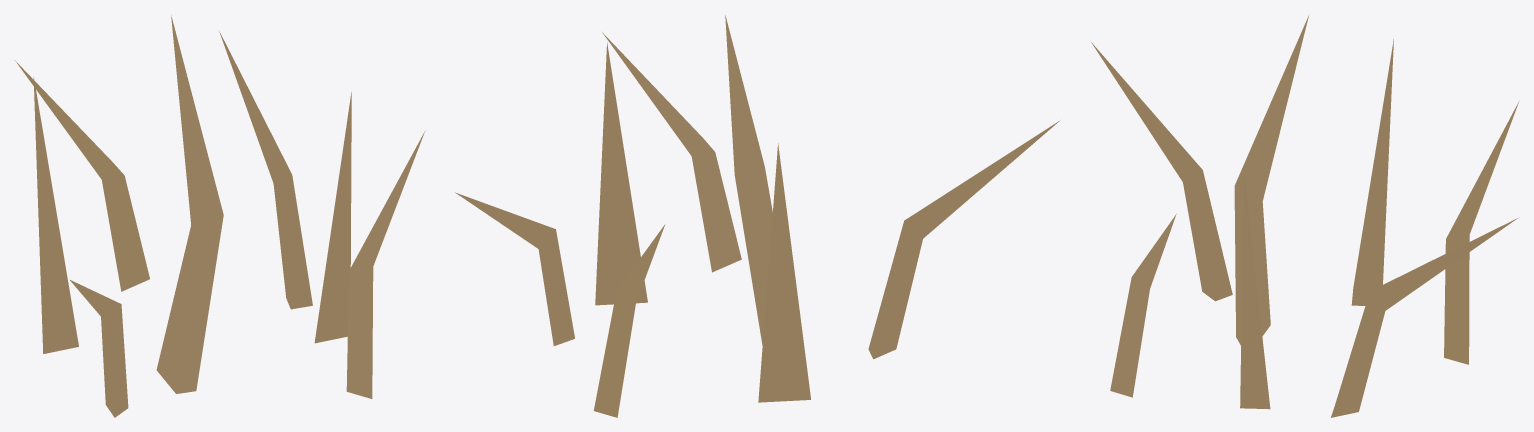
The model's file is Grass3D_b_05.fbx.
The picture shows the model from 3 angles, left to right: view 1: azimuth 30°, elevation 25°; view 2: azimuth 150°, elevation 25°; view 3: azimuth 270°, elevation 25°; orthographic projection. The views are drawn at different scales.
Parts seen in each view (by area): view 1: Grass3D_b_05; view 2: Grass3D_b_05; view 3: Grass3D_b_05.
Part boxes in pixels (<box>): Grass3D_b_05: <box>15,15,425,417</box>; Grass3D_b_05: <box>455,15,1059,417</box>; Grass3D_b_05: <box>1091,15,1519,417</box>.
Size of the model in its own units: 0.8295 by 0.6976 by 0.7845.
